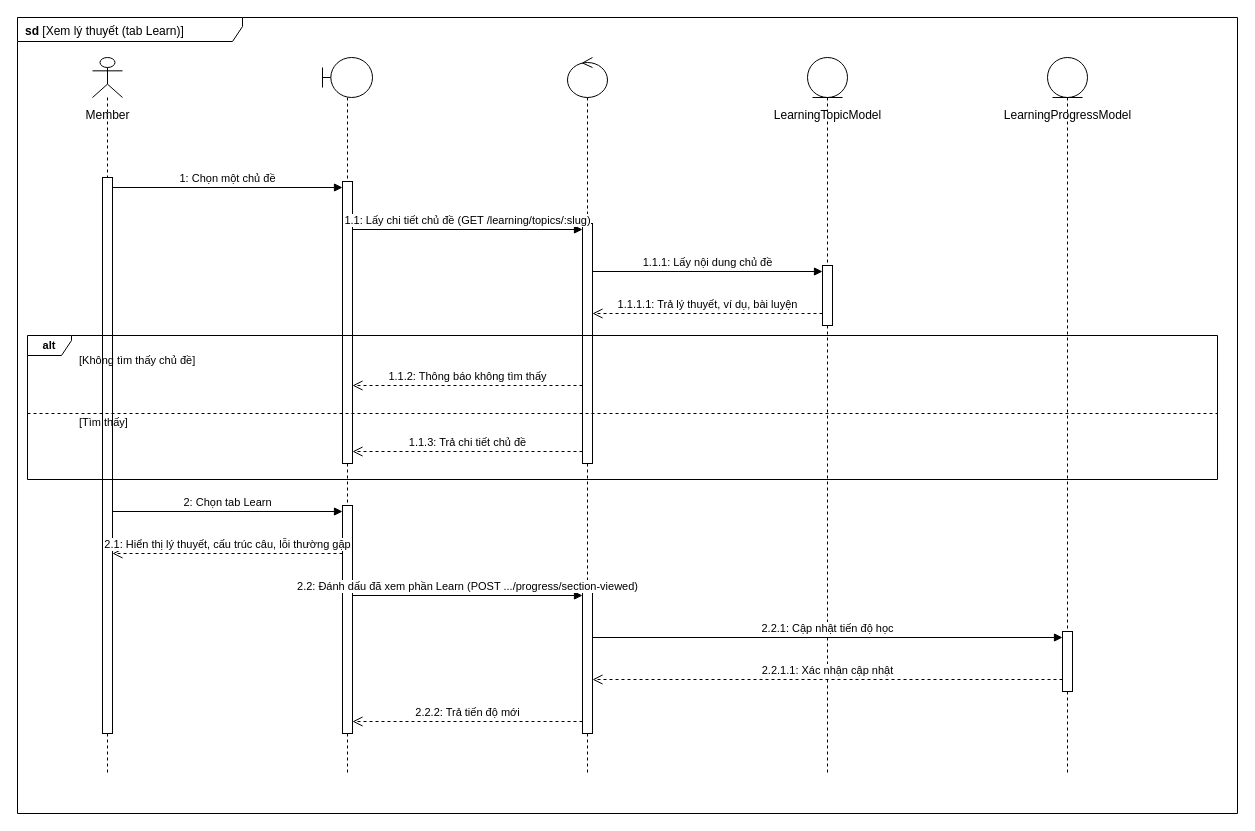
Image size: 1255x831. Some labels were removed from this diagram. Here are the shapes that lost their labels. From the top down, the box of each, then its label:
(322, 56, 372, 774): UI Chủ đề học
(566, 56, 608, 774): LearningController
